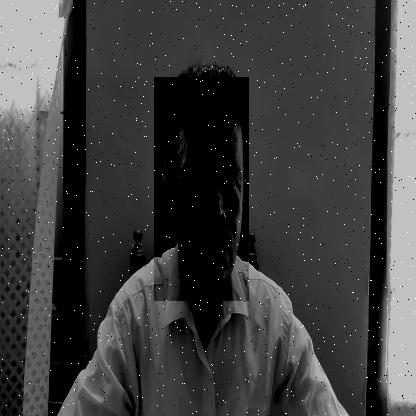Normal: (154, 78, 249, 302)
